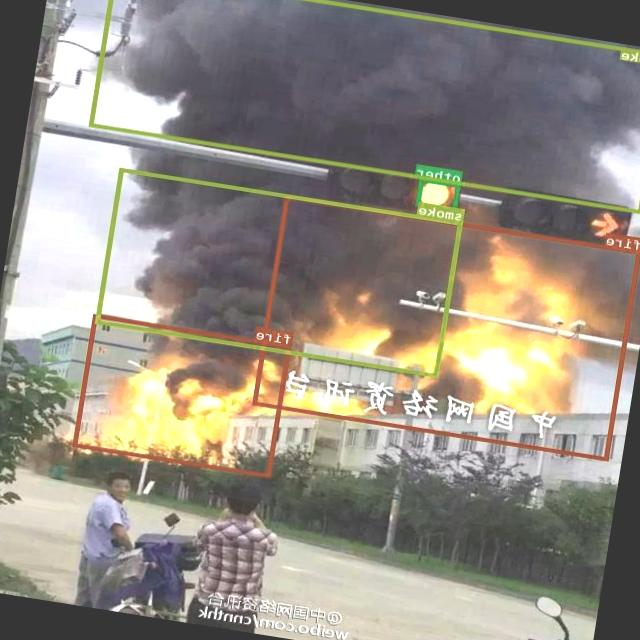fire: (253, 194, 640, 460), (74, 314, 292, 477)
smoke: (89, 0, 640, 213), (97, 168, 464, 376)
